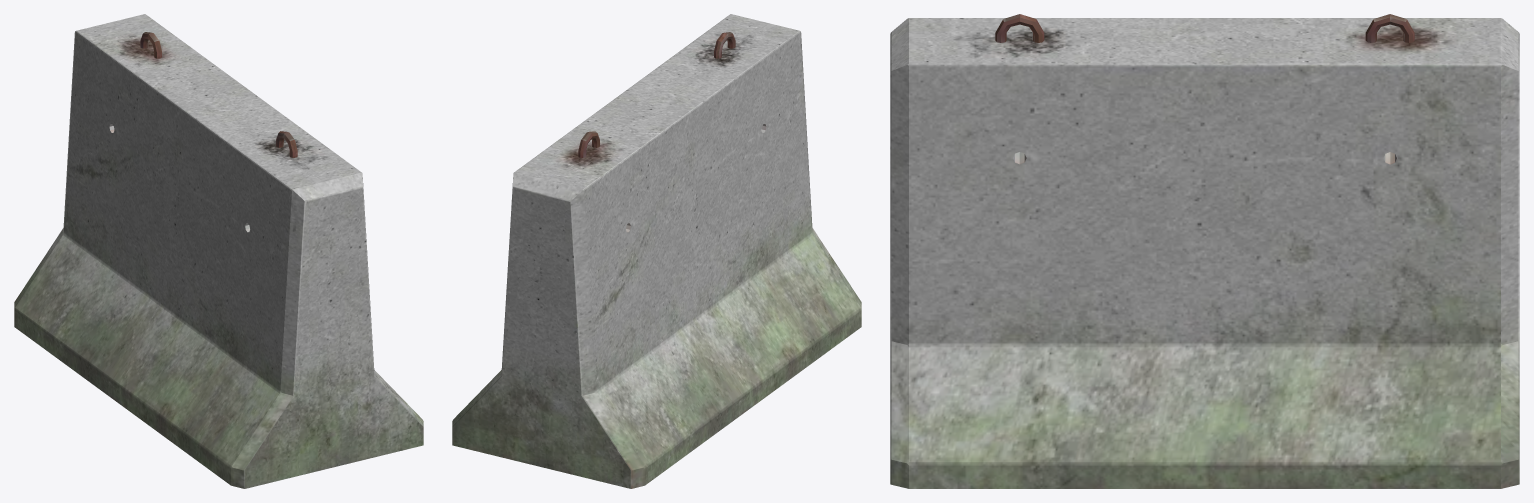
Rendered from p_jersey.glb.
3 views of the same model, side by side, from view 1: azimuth 30°, elevation 25°; view 2: azimuth 150°, elevation 25°; view 3: azimuth 270°, elevation 25° (orthographic). The views are drawn at different scales.
Visible parts, largest first — view 1: jersey_barrier; view 2: jersey_barrier; view 3: jersey_barrier.
Part boxes in pixels (bbox=[...]): jersey_barrier: bbox=[14, 14, 423, 488]; jersey_barrier: bbox=[452, 14, 861, 488]; jersey_barrier: bbox=[890, 14, 1519, 488].
Bounding box in the file's own units: 0.9647 × 1.44 × 2.
Materials: 1 (1 with a texture image).
